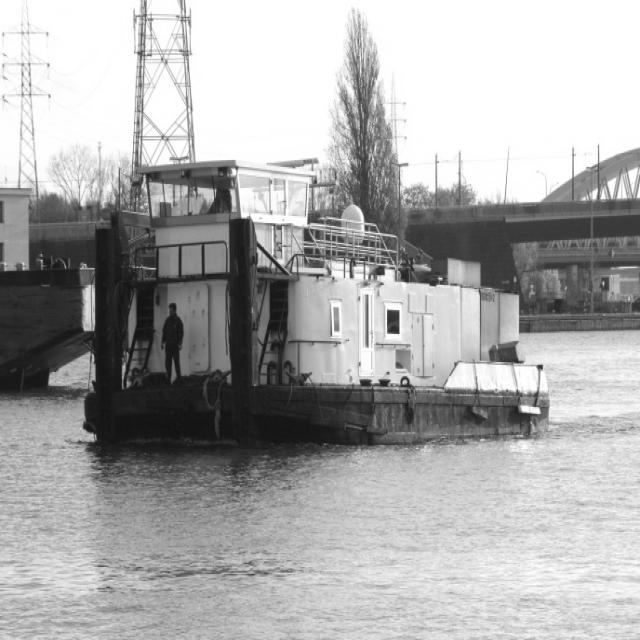tugboat: (78, 151, 554, 466)
